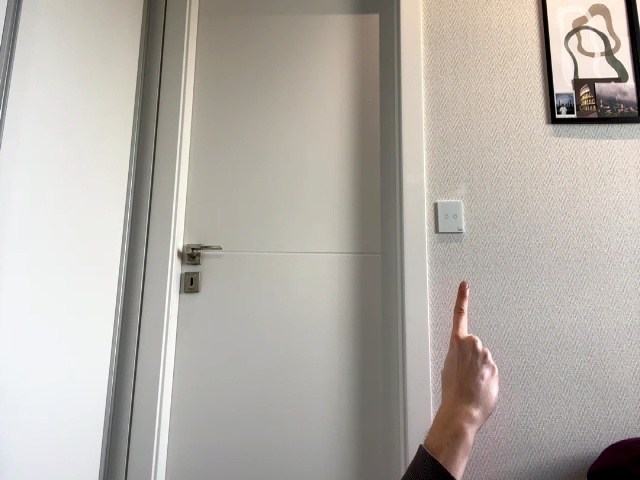D: (440, 282, 499, 426)
